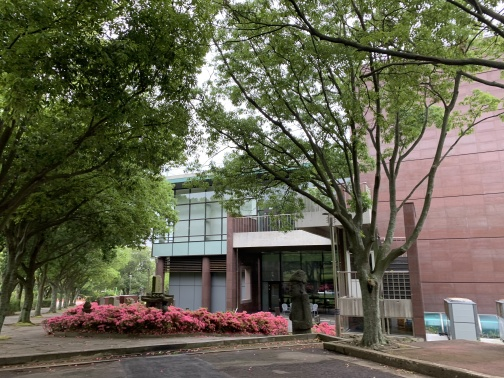Museum: (144, 152, 440, 349)
